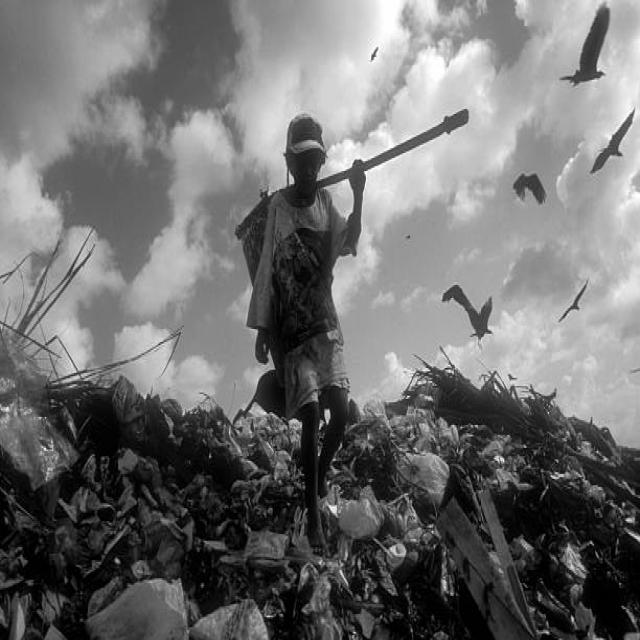trash: (29, 412, 575, 627)
